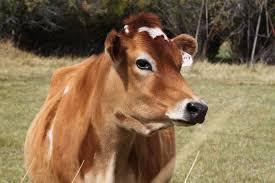cow: (25, 15, 207, 182)
